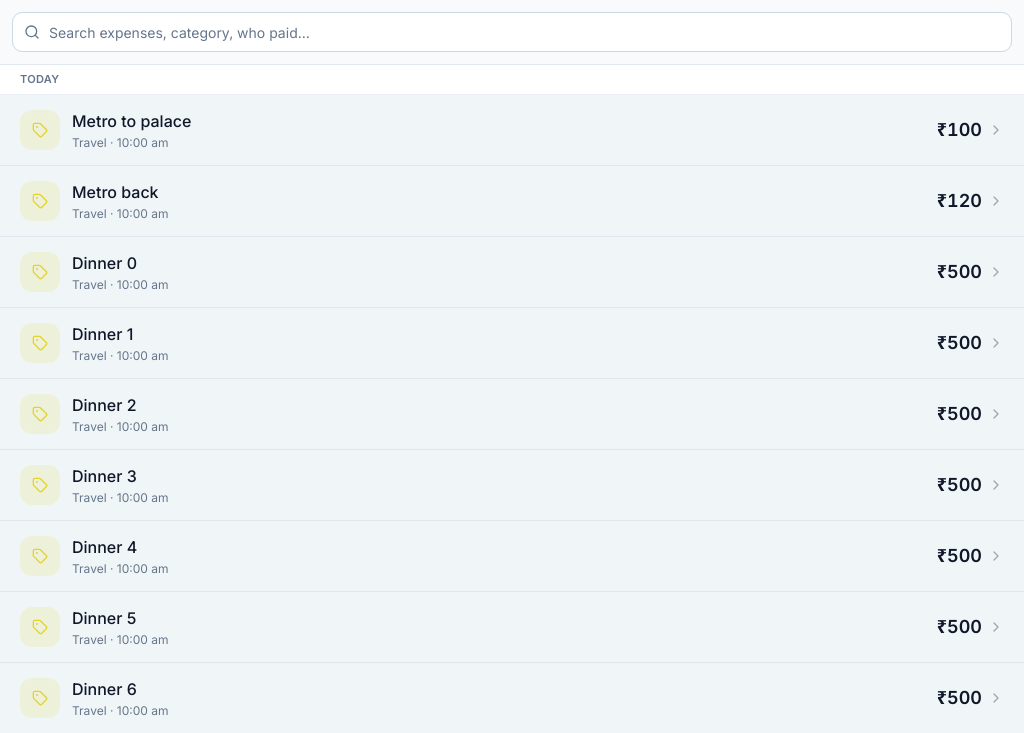
it: TransactionList search summary › totals the matching expenses
Type "metro" into the field with placeholder "Search expenses, category, who paid…" at (512, 32), box [12,12,1012,52]
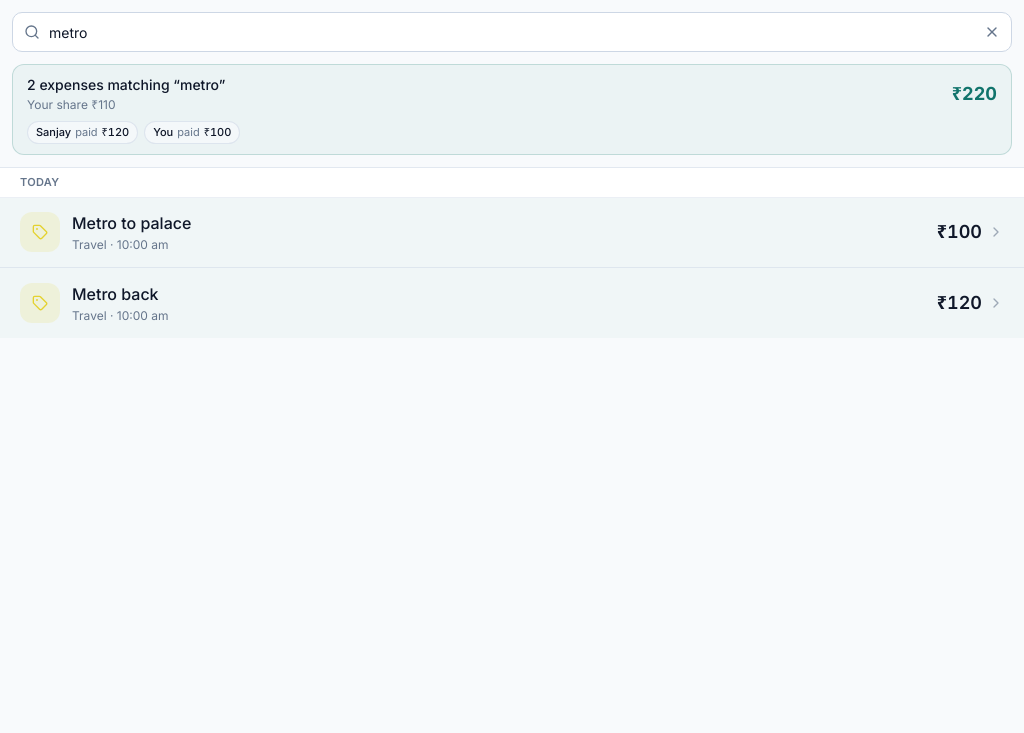
Now the text "2 expenses matching “metro”" is shown, box [27,75,225,95]
Now the text "₹220" is shown, box [952,80,997,108]
Now the text "Your share ₹110" is shown, box [27,97,116,112]
